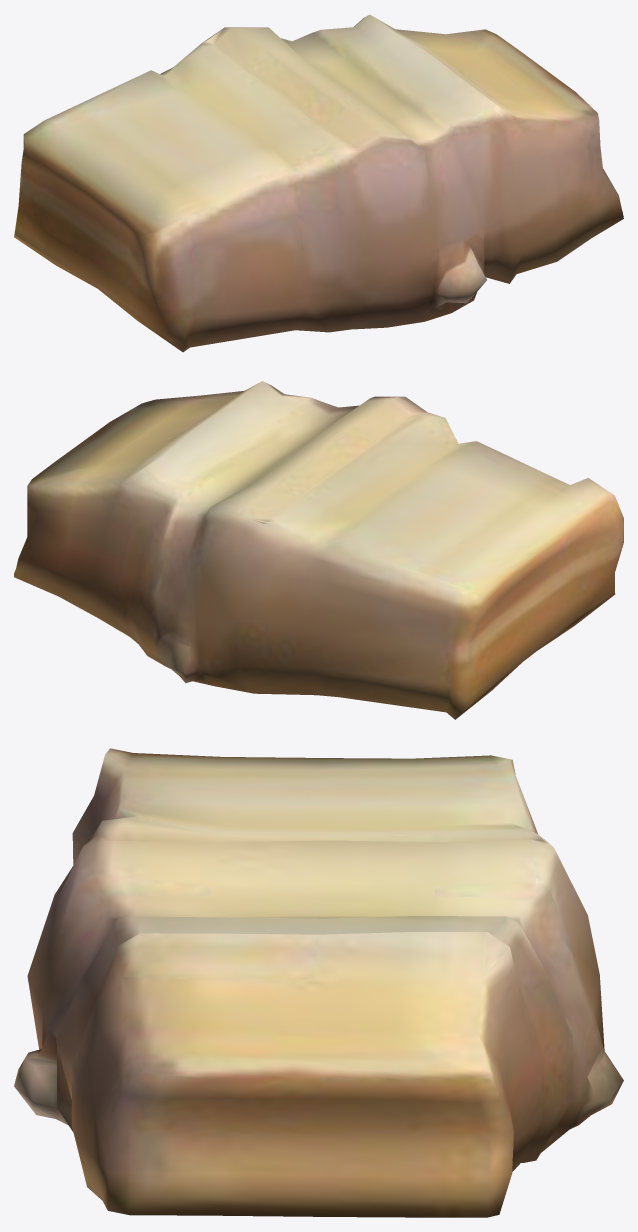
File: cod.glb
The picture shows the model from 3 angles, top to bottom: view 1: azimuth 30°, elevation 25°; view 2: azimuth 150°, elevation 25°; view 3: azimuth 270°, elevation 25°; orthographic projection. The views are drawn at different scales.
Visible parts, largest first — view 1: Cod; view 2: Cod; view 3: Cod.
Part boxes in pixels (bbox=[...]): Cod: bbox=[14, 14, 623, 352]; Cod: bbox=[14, 381, 623, 719]; Cod: bbox=[14, 748, 623, 1217].
Bounding box in the file's own units: 1.47 × 0.5371 × 1.12.
1 material, 1 textured.
